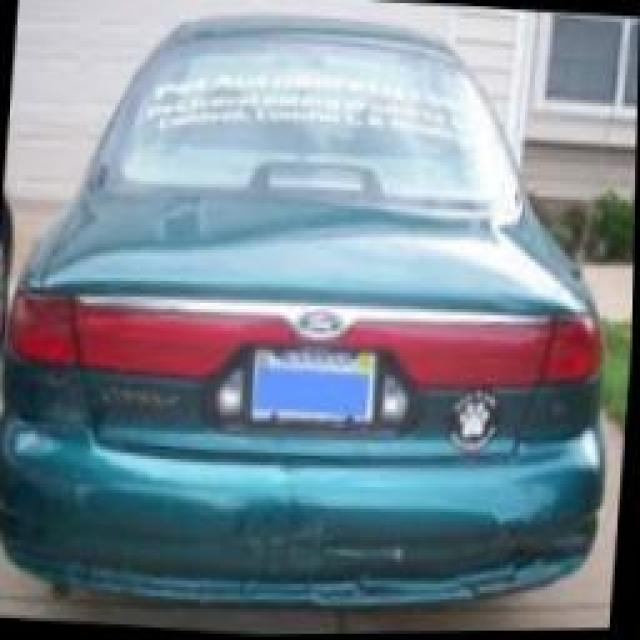Bumper: (229, 482, 381, 568)
